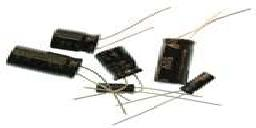Electrolytic-Capacitor: (7, 45, 96, 84), (154, 34, 195, 86), (53, 25, 115, 54), (94, 46, 144, 81), (180, 69, 221, 98), (96, 81, 150, 99)
